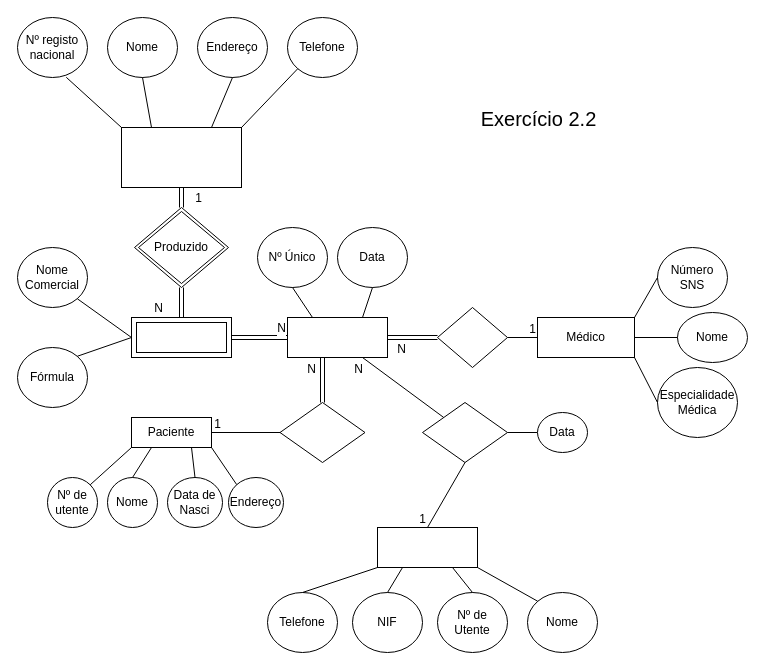
This 765x670 diagram has some shape labels left out. Each missing label, with the box of its shape:
Efetuada: (436, 306, 508, 368)
Farmacêutica: (120, 126, 242, 188)
Farmácia: (376, 526, 478, 568)
Fármaco: (130, 316, 232, 358)
Para: (279, 402, 365, 462)
Prescrição: (286, 316, 388, 358)
Processada: (422, 402, 508, 462)
